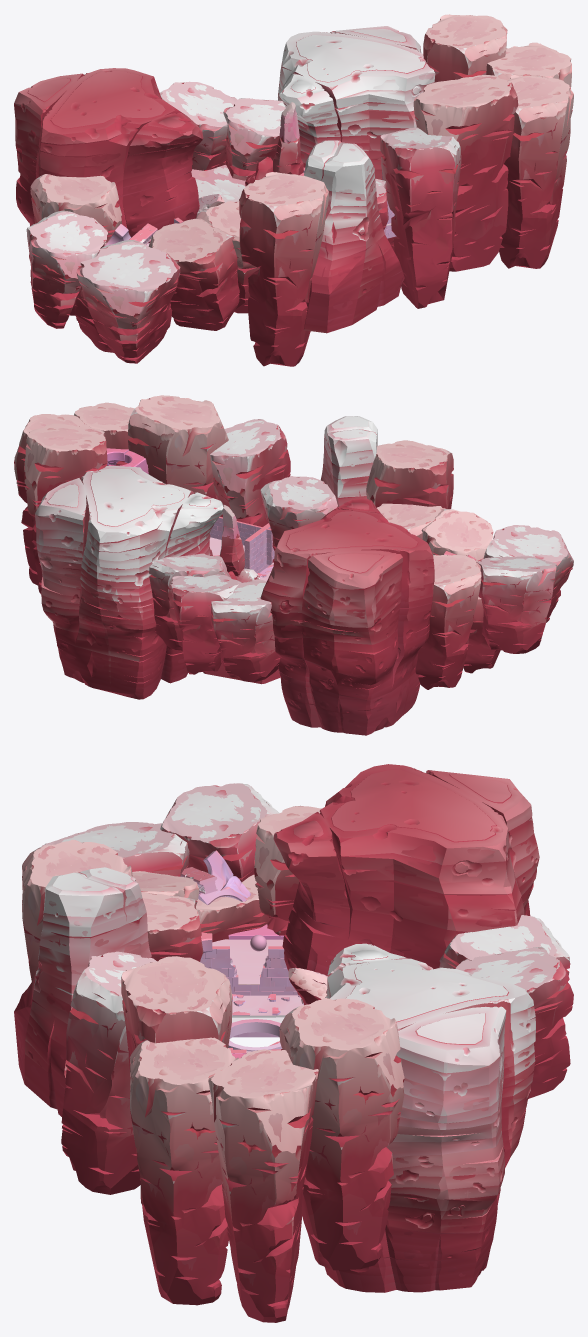
The picture shows the model from 3 angles, top to bottom: view 1: azimuth 30°, elevation 25°; view 2: azimuth 150°, elevation 25°; view 3: azimuth 270°, elevation 25°; orthographic projection. The views are drawn at different scales.
Parts seen in each view (by area): view 1: TFD_Canyon_Cliff_01B_LOD0__1_, TFD_Canyon_Cliff_01A_LOD0__1_, TFD_Rock_Large_15B_LOD0_12__2_, TFD_Canyon_Cliff_03A_LOD0__1_, TFD_Rock_Large_15B_LOD0_3__1_, TFD_Rock_Large_15A_LOD0_14__1_, TFD_Rock_Large_15B_LOD0_12__1_, TFD_Rock_Large_15A_LOD0_6__1_, TFD_Rock_Large_15B_LOD0_7__1_, TFD_Rock_Large_15A_LOD0_20__1_, TFD_Rock_Large_15B_LOD0_4__1_, TFD_Rock_Large_15B_LOD0_8__1_ (+8 smaller); view 2: TFD_Canyon_Cliff_01B_LOD0__1_, TFD_Canyon_Cliff_01A_LOD0__1_, TFD_Rock_Large_15B_LOD0_3__1_, TFD_Rock_Large_15A_LOD0_20__1_, TFD_Rock_Large_15B_LOD0_8__1_, TFD_Rock_Large_15A_LOD0_14__1_, TFD_Rock_Large_15B_LOD0_4__1_, TFD_Rock_Large_15A_LOD0_28__1_, TFD_Rock_Large_15B_LOD0_12__2_, TFD_Rock_Large_15A_LOD0_18__1_, TFD_Canyon_Cliff_03A_LOD0__1_, TFD_Rock_Large_15A_LOD0__1_ (+10 smaller); view 3: TFD_Canyon_Cliff_01A_LOD0__1_, TFD_Canyon_Cliff_01B_LOD0__1_, TFD_Rock_Large_15B_LOD0_4__1_, TFD_Rock_Large_15B_LOD0_12__1_, TFD_Rock_Large_15B_LOD0_2__1_, TFD_Canyon_Cliff_03A_LOD0__1_, TFD_Rock_Large_15A_LOD0_14__1_, TFD_Rock_Large_15B_LOD0_3__1_, TFD_Rock_Large_15A_LOD0_20__1_, TFD_Rock_Large_15A_LOD0_18__1_, TFD_Rock_Large_15B_LOD0_12__2_, TFD_Rock_Large_15A_LOD0_6__1_ (+14 smaller).
Part boxes in pixels (left/top/right/bottom): TFD_Canyon_Cliff_01B_LOD0__1_: left=14, top=68, right=203, bottom=243; TFD_Canyon_Cliff_01A_LOD0__1_: left=278, top=26, right=435, bottom=255; TFD_Rock_Large_15B_LOD0_12__2_: left=239, top=172, right=328, bottom=366; TFD_Canyon_Cliff_03A_LOD0__1_: left=304, top=140, right=404, bottom=333; TFD_Rock_Large_15B_LOD0_3__1_: left=413, top=75, right=518, bottom=271; TFD_Rock_Large_15A_LOD0_14__1_: left=380, top=127, right=461, bottom=308; TFD_Rock_Large_15B_LOD0_12__1_: left=499, top=75, right=573, bottom=268; TFD_Rock_Large_15A_LOD0_6__1_: left=76, top=240, right=180, bottom=363; TFD_Rock_Large_15B_LOD0_7__1_: left=148, top=218, right=239, bottom=330; TFD_Rock_Large_15A_LOD0_20__1_: left=26, top=210, right=107, bottom=328; TFD_Rock_Large_15B_LOD0_4__1_: left=423, top=14, right=507, bottom=82; TFD_Rock_Large_15B_LOD0_8__1_: left=30, top=174, right=122, bottom=315; TFD_Canyon_Cliff_01B_LOD0__1_: left=260, top=498, right=434, bottom=735; TFD_Canyon_Cliff_01A_LOD0__1_: left=35, top=466, right=223, bottom=699; TFD_Rock_Large_15B_LOD0_3__1_: left=128, top=395, right=228, bottom=499; TFD_Rock_Large_15A_LOD0_20__1_: left=476, top=555, right=556, bottom=653; TFD_Rock_Large_15B_LOD0_8__1_: left=415, top=555, right=481, bottom=689; TFD_Rock_Large_15A_LOD0_14__1_: left=210, top=419, right=290, bottom=562; TFD_Rock_Large_15B_LOD0_4__1_: left=24, top=423, right=107, bottom=594; TFD_Rock_Large_15A_LOD0_28__1_: left=211, top=579, right=280, bottom=681; TFD_Rock_Large_15B_LOD0_12__2_: left=366, top=440, right=453, bottom=508; TFD_Rock_Large_15A_LOD0_18__1_: left=170, top=574, right=241, bottom=674; TFD_Canyon_Cliff_03A_LOD0__1_: left=320, top=416, right=377, bottom=507; TFD_Rock_Large_15A_LOD0__1_: left=260, top=476, right=337, bottom=550; TFD_Canyon_Cliff_01A_LOD0__1_: left=325, top=943, right=535, bottom=1292; TFD_Canyon_Cliff_01B_LOD0__1_: left=273, top=764, right=539, bottom=994; TFD_Rock_Large_15B_LOD0_4__1_: left=279, top=998, right=404, bottom=1270; TFD_Rock_Large_15B_LOD0_12__1_: left=129, top=1037, right=238, bottom=1305; TFD_Rock_Large_15B_LOD0_2__1_: left=208, top=1049, right=318, bottom=1322; TFD_Canyon_Cliff_03A_LOD0__1_: left=14, top=867, right=151, bottom=1116; TFD_Rock_Large_15A_LOD0_14__1_: left=61, top=951, right=156, bottom=1194; TFD_Rock_Large_15B_LOD0_3__1_: left=121, top=956, right=232, bottom=1068; TFD_Rock_Large_15A_LOD0_20__1_: left=160, top=783, right=279, bottom=882; TFD_Rock_Large_15A_LOD0_18__1_: left=455, top=946, right=573, bottom=1098; TFD_Rock_Large_15B_LOD0_12__2_: left=22, top=839, right=132, bottom=981; TFD_Rock_Large_15A_LOD0_6__1_: left=41, top=822, right=189, bottom=876.
Bounding box in the file's own units: 123 × 46.05 × 77.37.
4 materials, 3 textured.
